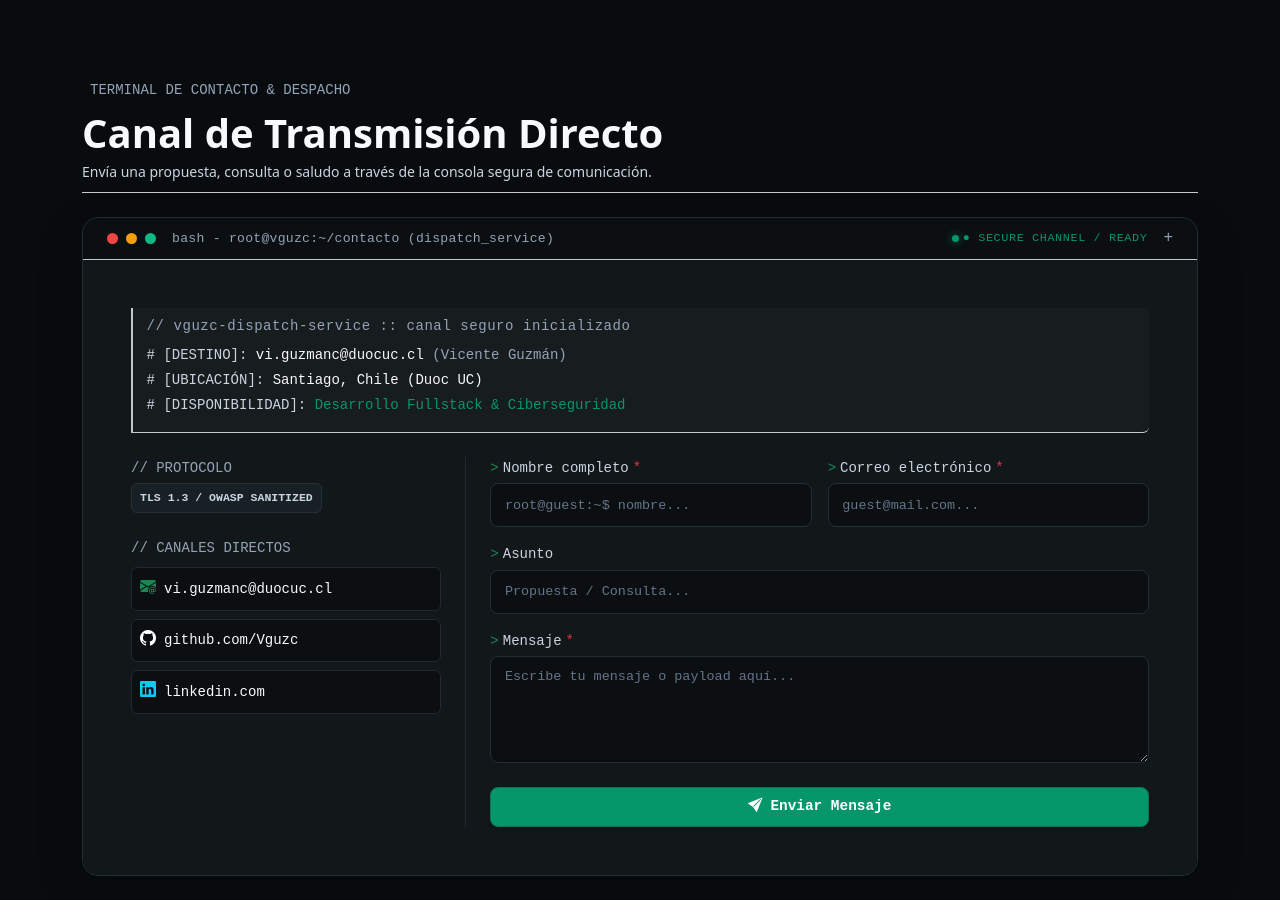
Test case: Componente Contact (Manejo de estado, eventos y validación) › debe mostrar pantalla de éxito al enviar datos válidos
The image size is (1280, 900).
Type "Carlos Silva" into the field labelled "> Nombre completo *" at (651, 505), box [490,483,812,527]
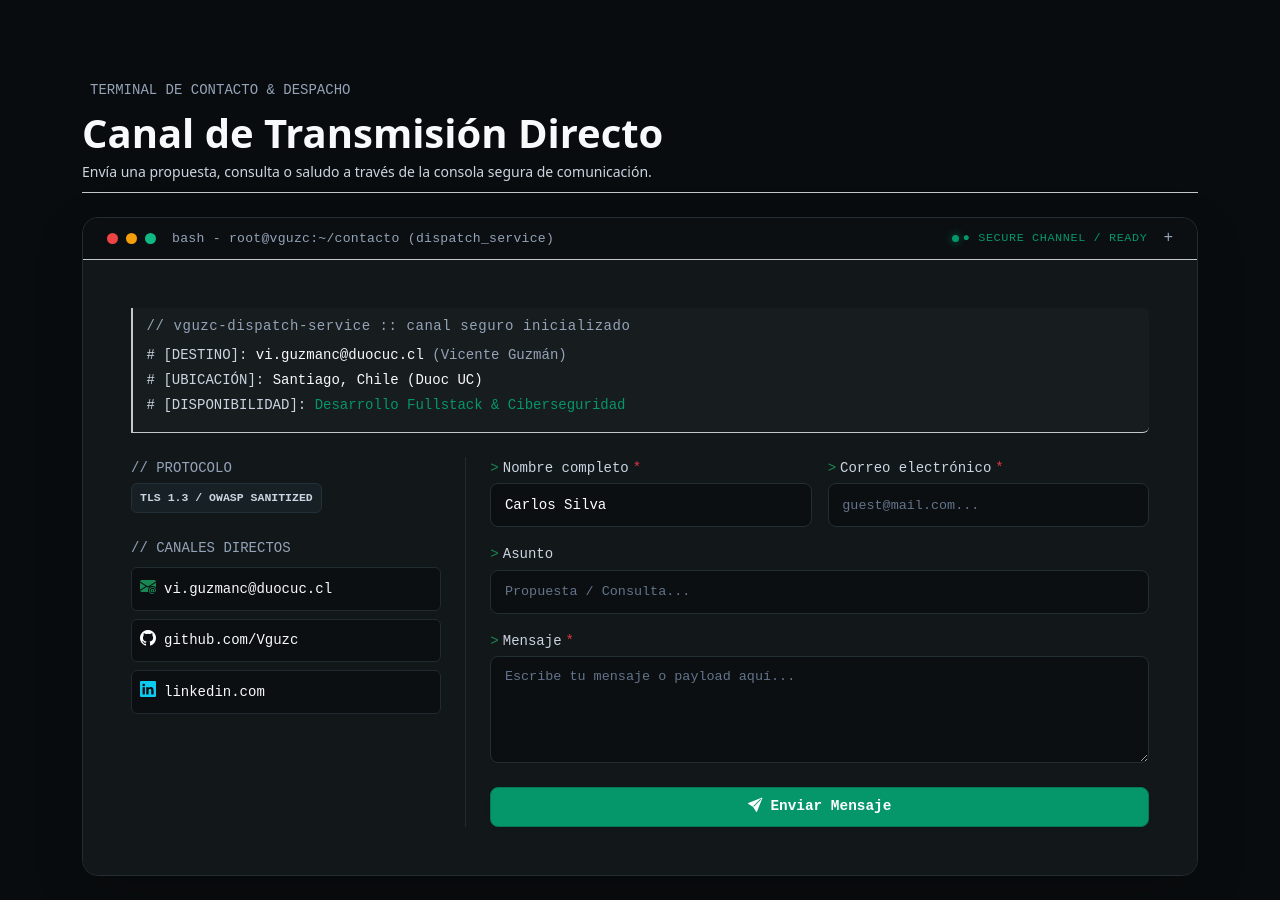
Type "carlos@ejemplo.com" into the field labelled "> Correo electrónico *" at (988, 505), box [828,483,1149,527]
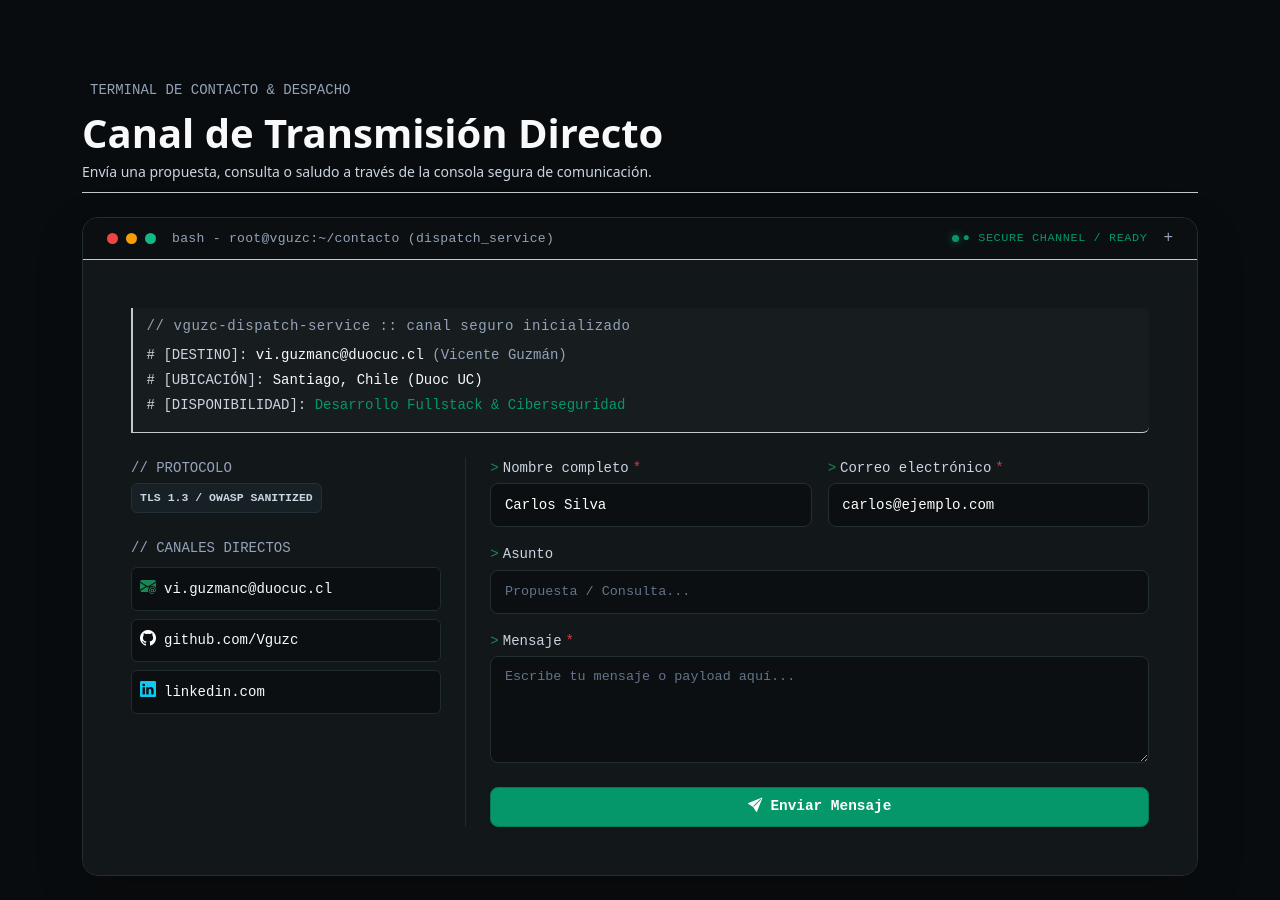
Type "Hola, me gustaría conversar." into the text box labelled "> Mensaje *" at (820, 710), box [490,656,1149,763]
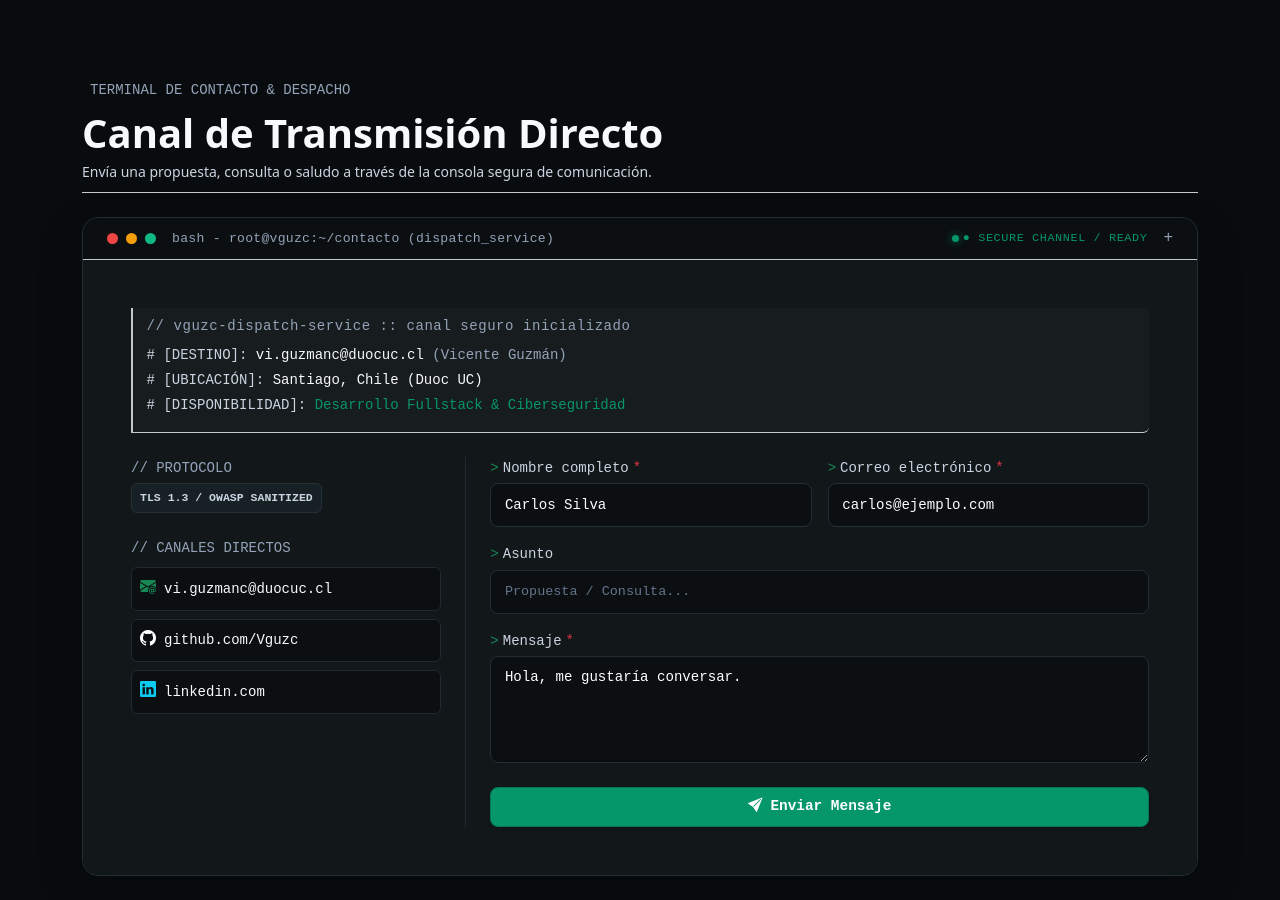
Click the button "Enviar Mensaje" at (820, 807), box [490,787,1149,827]
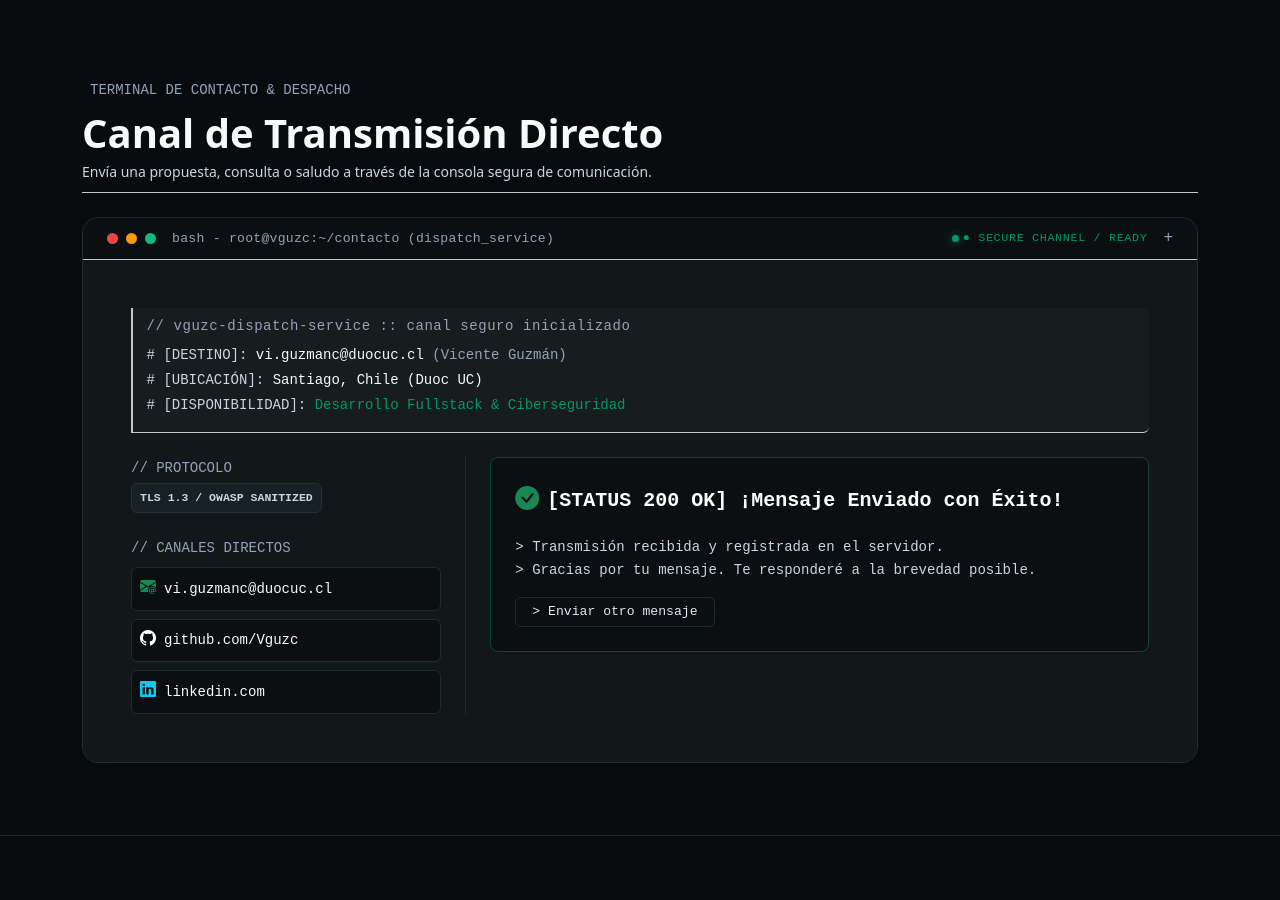
Result: the element with test id "contact-success-alert" is shown at [490,457,1149,652]
Result: the element with test id "contact-success-alert" shows "¡Mensaje Enviado con Éxito!" at [547,489,1063,512]
